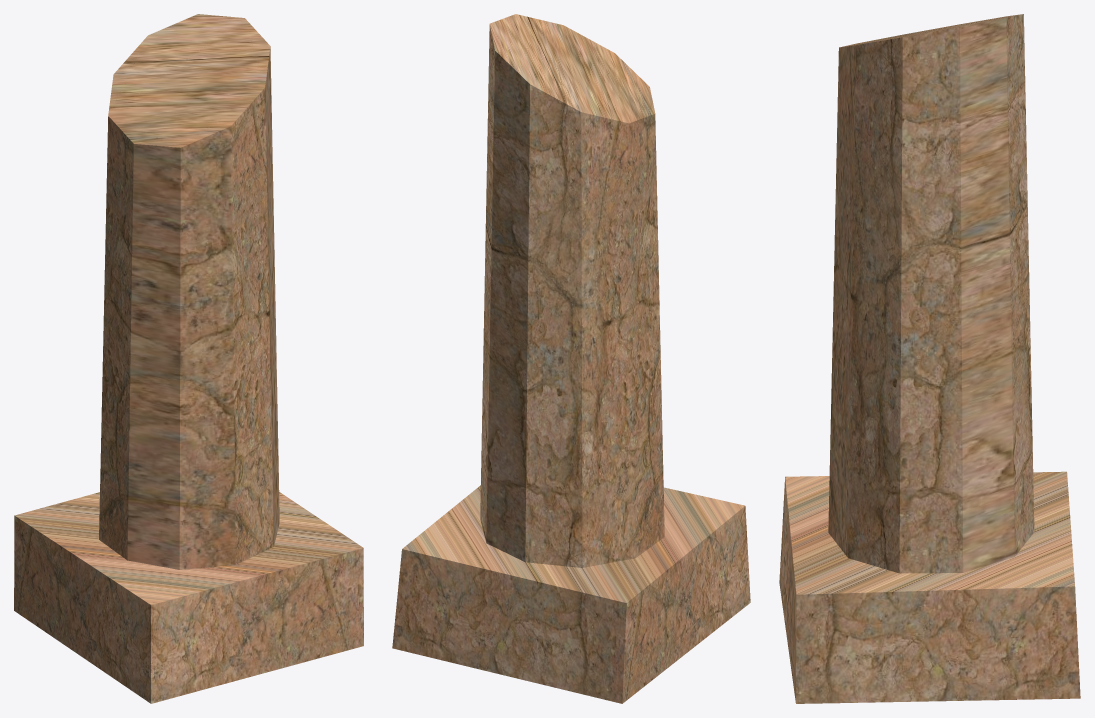
File: ruinas_pilar.glb
3 views of the same model, side by side, from view 1: azimuth 30°, elevation 25°; view 2: azimuth 150°, elevation 25°; view 3: azimuth 270°, elevation 25° (orthographic). The views are drawn at different scales.
Parts seen in each view (by area): view 1: RuinasPilar; view 2: RuinasPilar; view 3: RuinasPilar.
Boxes of the visible parts, x1=… form: RuinasPilar: x1=14, y1=14, x2=363, y2=703; RuinasPilar: x1=392, y1=14, x2=750, y2=703; RuinasPilar: x1=779, y1=14, x2=1080, y2=703.
Size of the model in its own units: 1.08 by 2.65 by 1.11.
Materials: 1 (1 with a texture image).
